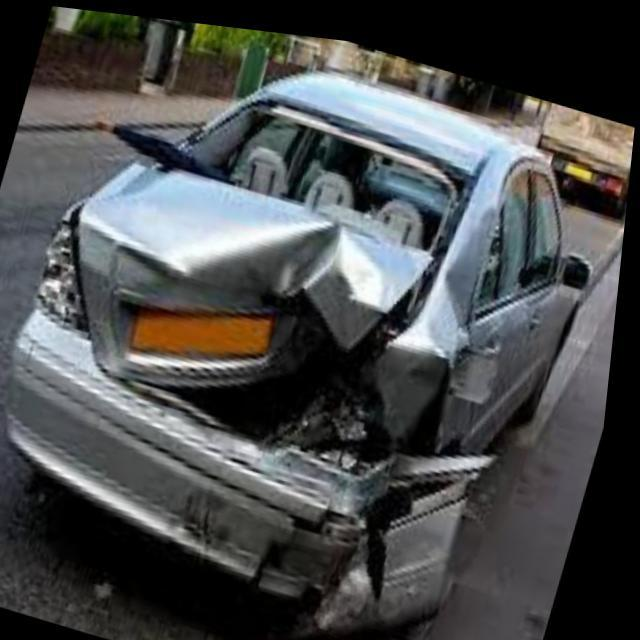crack: (458, 335, 508, 391)
dislocated part: (93, 160, 506, 636)
glass shatter: (170, 84, 476, 247)
lamp broken: (40, 208, 100, 338)
rub: (179, 473, 255, 556)
